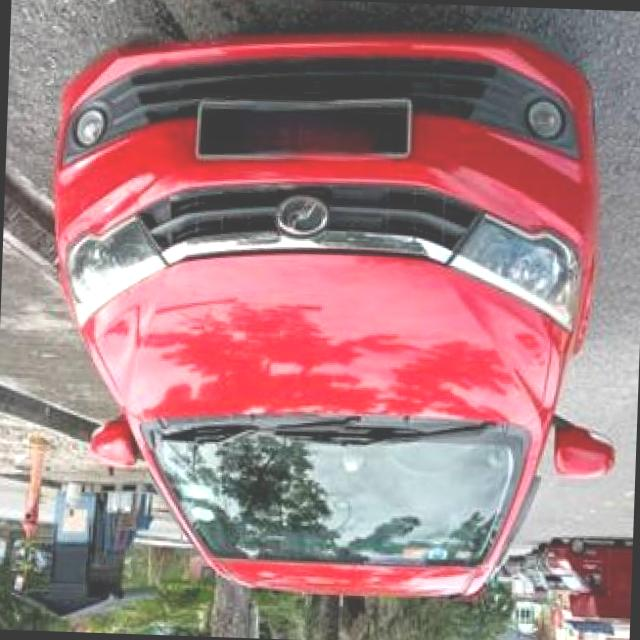PeroduaBezza: (37, 16, 630, 608)
